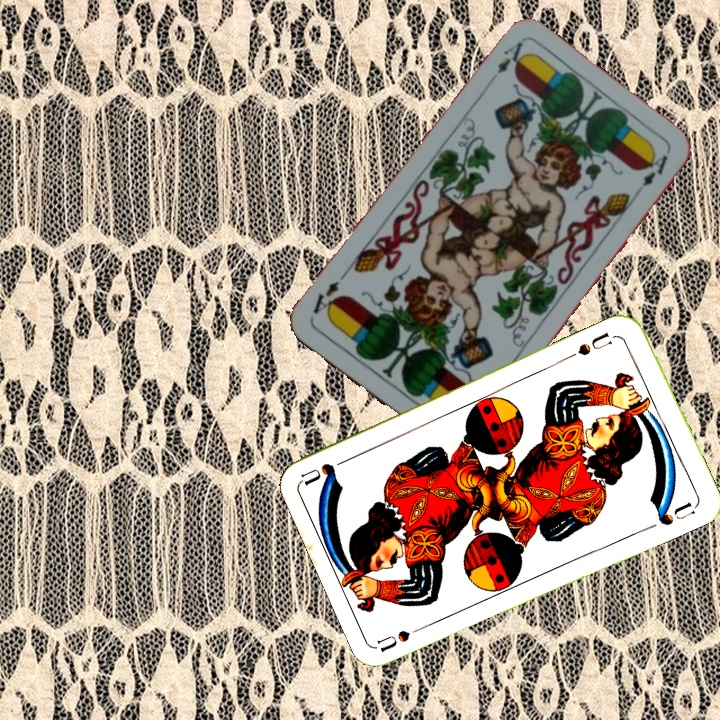EA: (493, 37, 528, 77)
SU: (375, 619, 433, 654), (574, 328, 615, 358)
